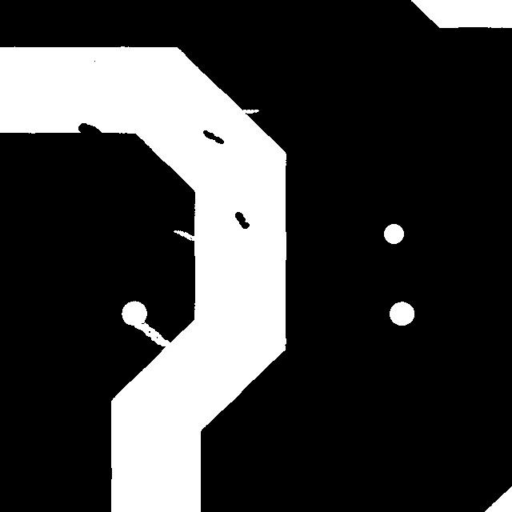copper: (195, 122, 231, 151), (227, 204, 257, 236)
mousebite: (166, 222, 206, 248), (232, 102, 266, 121)
open: (126, 312, 178, 354)
pin-hole: (376, 216, 411, 251)
spur: (70, 115, 109, 146)
